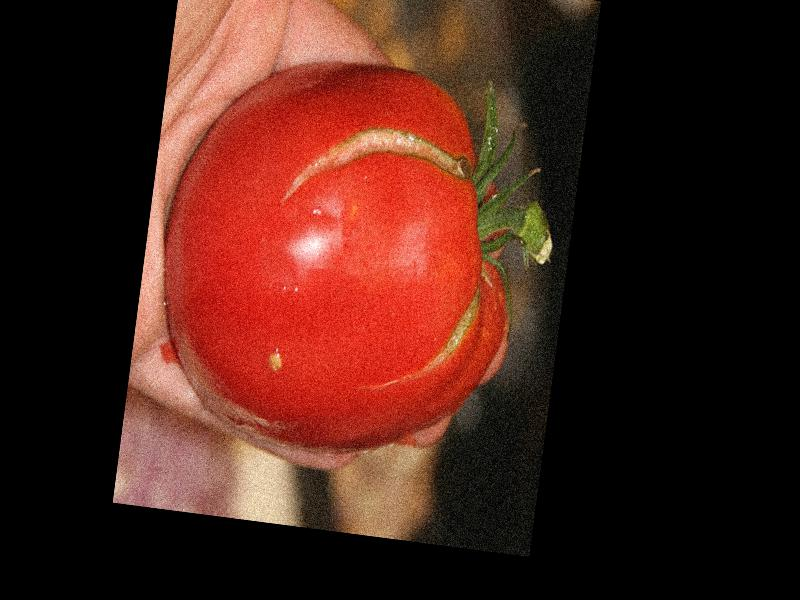Tomato: (141, 46, 535, 472)
